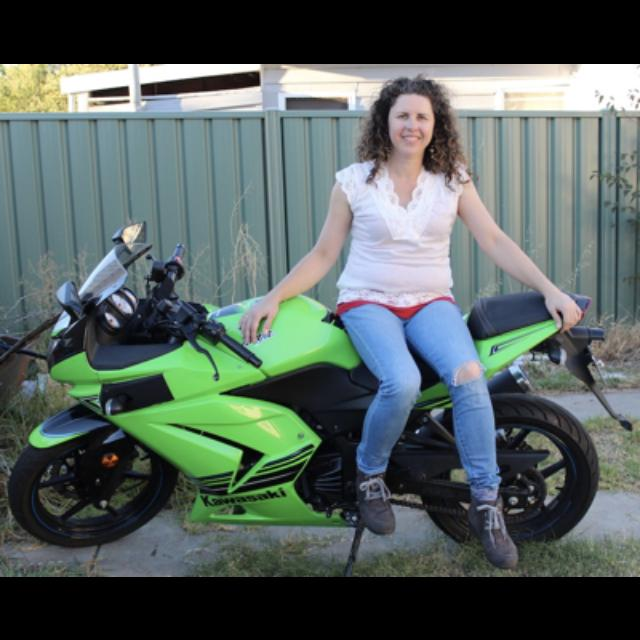Without Helmet: (358, 65, 466, 172)
